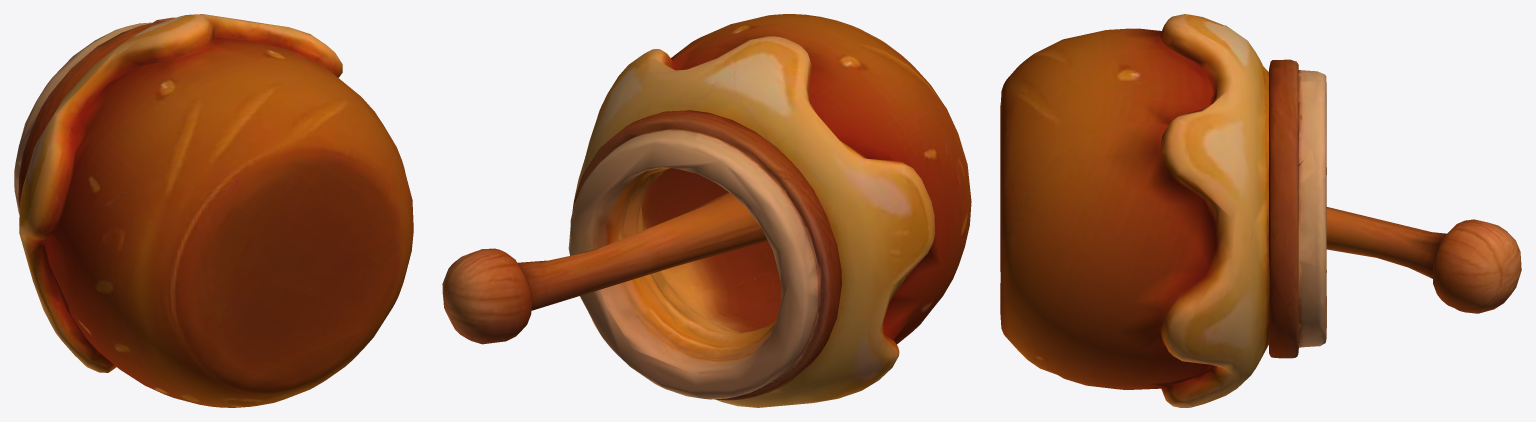
The picture shows the model from 3 angles, left to right: view 1: azimuth 30°, elevation 25°; view 2: azimuth 150°, elevation 25°; view 3: azimuth 270°, elevation 25°; orthographic projection.
Visible parts, largest first — view 1: material; view 2: material; view 3: material.
Boxes of the visible parts, box(x1,y1,x2,y2) form: material: box(14, 14, 413, 407); material: box(442, 14, 971, 407); material: box(1000, 14, 1521, 407).
Size of the model in its own units: 0.753 by 0.7595 by 1.
1 material, 1 textured.
